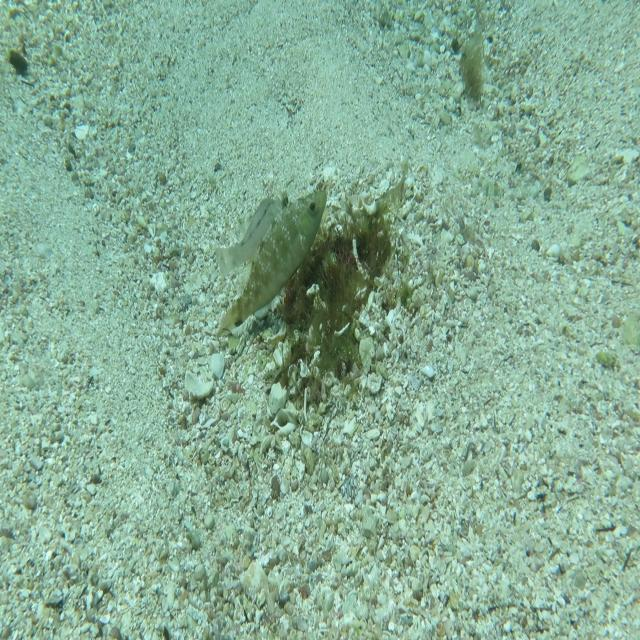FAN: (218, 186, 329, 342)
core_nest: (336, 219, 389, 267)
female: (213, 194, 284, 282)
nest: (276, 168, 414, 410)
